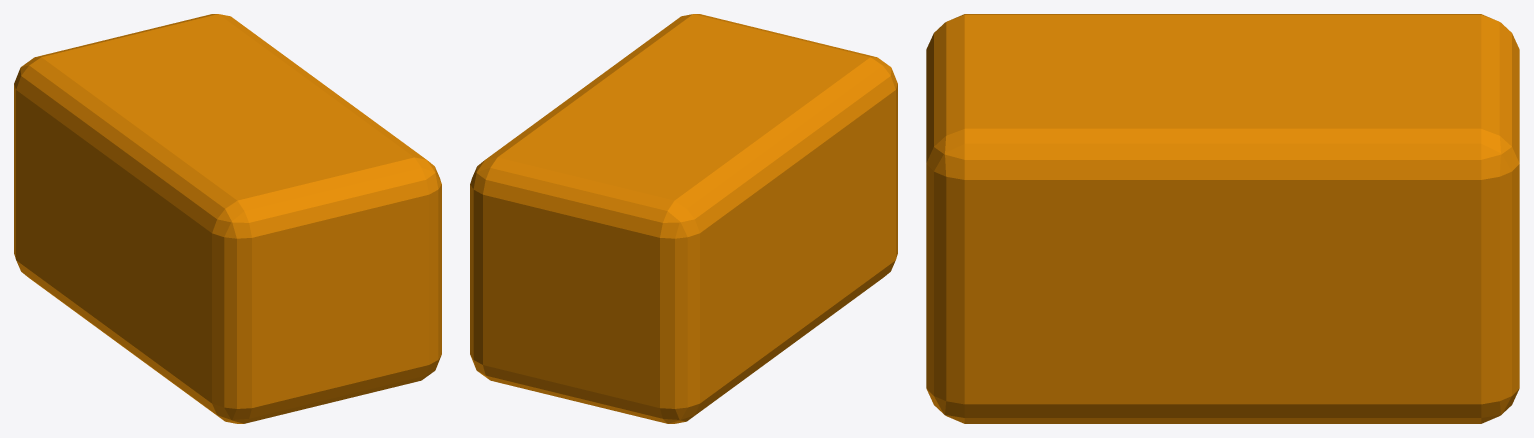
The model's file is bigCreate.fbx.
The picture shows the model from 3 angles, left to right: view 1: azimuth 30°, elevation 25°; view 2: azimuth 150°, elevation 25°; view 3: azimuth 270°, elevation 25°; orthographic projection. The views are drawn at different scales.
Visible parts, largest first — view 1: Cube; view 2: Cube; view 3: Cube.
Part boxes in pixels (x1,y1,x2,y2): Cube: (14,14,441,423); Cube: (470,14,897,423); Cube: (926,14,1519,423).
Size of the model in its own units: 593 by 556 by 1016.
